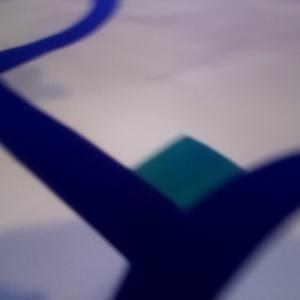top_right: (132, 137, 243, 264)
